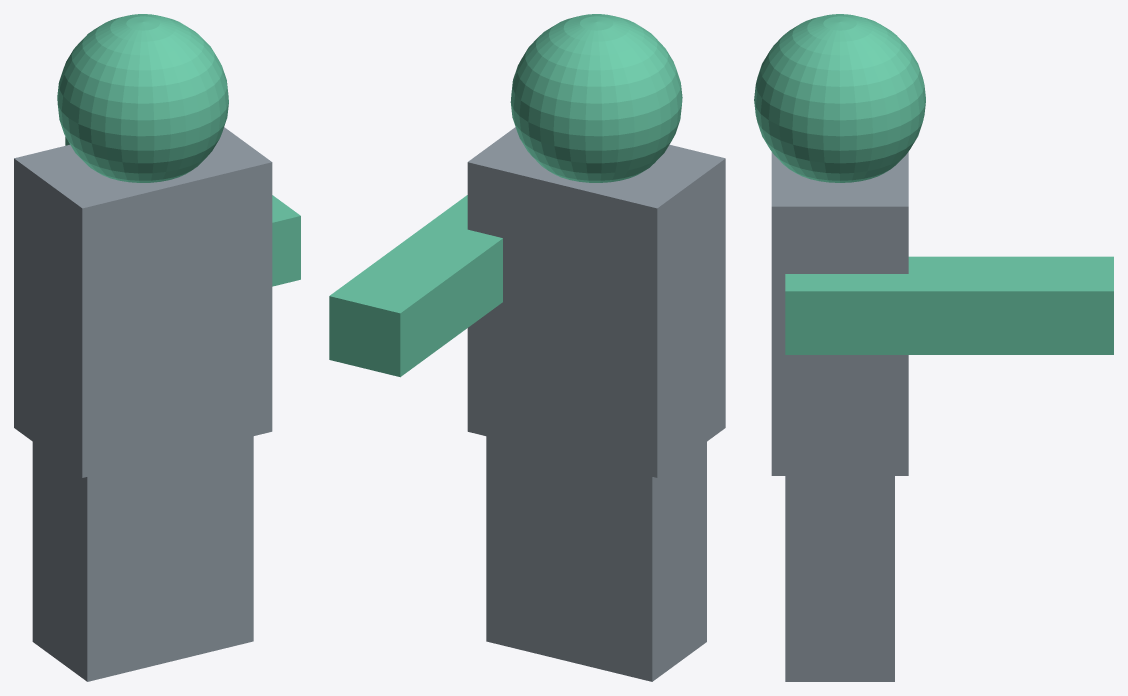
File: CO_RakshaGuard_LOD0.glb
3 views of the same model, side by side, from view 1: azimuth 30°, elevation 25°; view 2: azimuth 150°, elevation 25°; view 3: azimuth 270°, elevation 25° (orthographic).
Visible parts, largest first — view 1: Head; view 2: Head; view 3: Head.
Boxes of the visible parts, bbox=[...] form: Head: bbox=[14, 14, 300, 681]; Head: bbox=[329, 14, 725, 681]; Head: bbox=[754, 14, 1113, 681].
Size of the model in its own units: 66.5 by 175 by 92.
